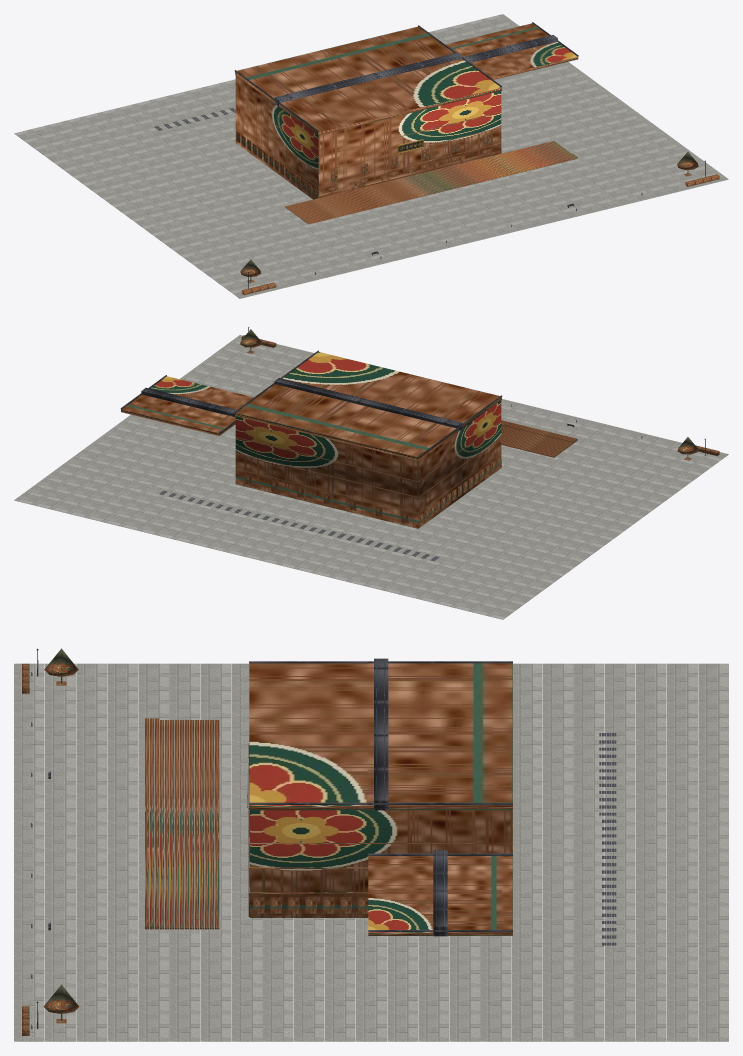
The picture shows the model from 3 angles, top to bottom: view 1: azimuth 30°, elevation 25°; view 2: azimuth 150°, elevation 25°; view 3: azimuth 270°, elevation 25°; orthographic projection. The views are drawn at different scales.
Visible parts, largest first — view 1: 11710_01_05555_022_01__plinth_ground_base, 11710_01_05555_022_02__mass_body_facade, 11710_01_05555_022_03__roof_metal_ornament, 11710_01_05555_022_06__landscape_greenery, 11710_01_05555_022_05__window_sash_glass; view 2: 11710_01_05555_022_01__plinth_ground_base, 11710_01_05555_022_02__mass_body_facade, 11710_01_05555_022_03__roof_metal_ornament, 11710_01_05555_022_06__landscape_greenery, 11710_01_05555_022_03__roof_deck_structure; view 3: 11710_01_05555_022_01__plinth_ground_base, 11710_01_05555_022_02__mass_body_facade, 11710_01_05555_022_03__roof_metal_ornament, 11710_01_05555_022_03__roof_deck_structure, 11710_01_05555_022_06__landscape_greenery.
Boxes of the visible parts, bbox=[...] form: 11710_01_05555_022_01__plinth_ground_base: bbox=[14, 14, 728, 298]; 11710_01_05555_022_02__mass_body_facade: bbox=[235, 23, 578, 224]; 11710_01_05555_022_03__roof_metal_ornament: bbox=[234, 22, 578, 132]; 11710_01_05555_022_06__landscape_greenery: bbox=[240, 152, 719, 295]; 11710_01_05555_022_05__window_sash_glass: bbox=[330, 133, 489, 191]; 11710_01_05555_022_01__plinth_ground_base: bbox=[14, 335, 728, 619]; 11710_01_05555_022_02__mass_body_facade: bbox=[121, 352, 577, 528]; 11710_01_05555_022_03__roof_metal_ornament: bbox=[120, 350, 502, 457]; 11710_01_05555_022_06__landscape_greenery: bbox=[240, 329, 719, 460]; 11710_01_05555_022_03__roof_deck_structure: bbox=[159, 490, 439, 560]; 11710_01_05555_022_01__plinth_ground_base: bbox=[14, 663, 728, 1041]; 11710_01_05555_022_02__mass_body_facade: bbox=[145, 663, 512, 935]; 11710_01_05555_022_03__roof_metal_ornament: bbox=[249, 658, 512, 936]; 11710_01_05555_022_03__roof_deck_structure: bbox=[599, 733, 616, 945]; 11710_01_05555_022_06__landscape_greenery: bbox=[22, 648, 79, 1035].
Bounding box in the file's own units: 150 × 22.8 × 120.
7 materials, 7 textured.
